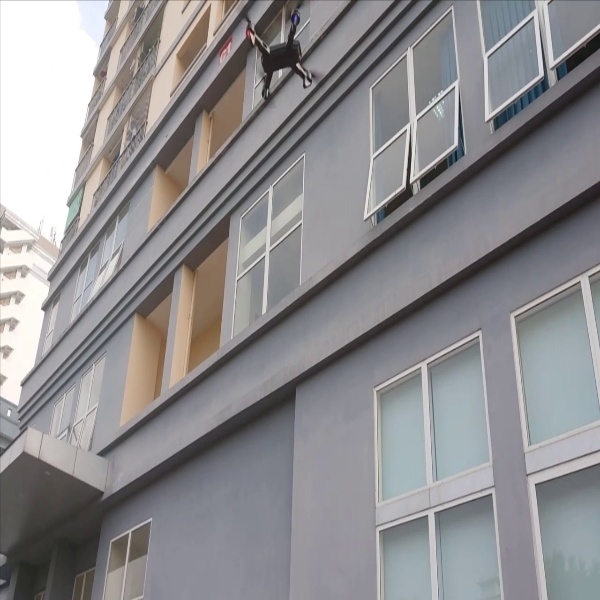drone: (227, 1, 335, 105)
